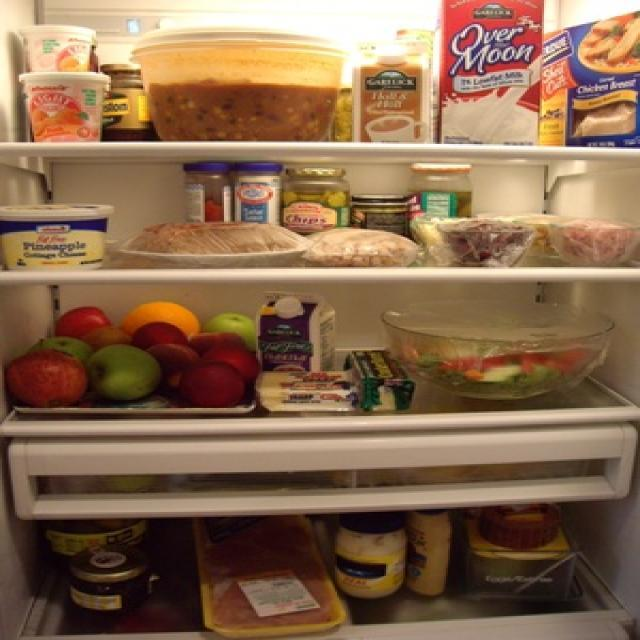apple: (6, 339, 86, 405), (88, 339, 170, 402), (213, 310, 258, 350)
butter: (258, 370, 354, 414)
meat: (192, 525, 350, 640)
milk: (440, 0, 538, 146)
